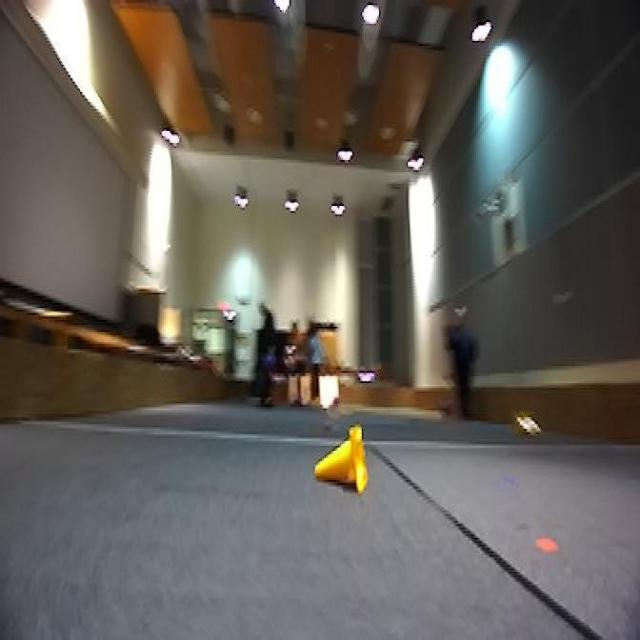frc_cone: (312, 426, 370, 496)
